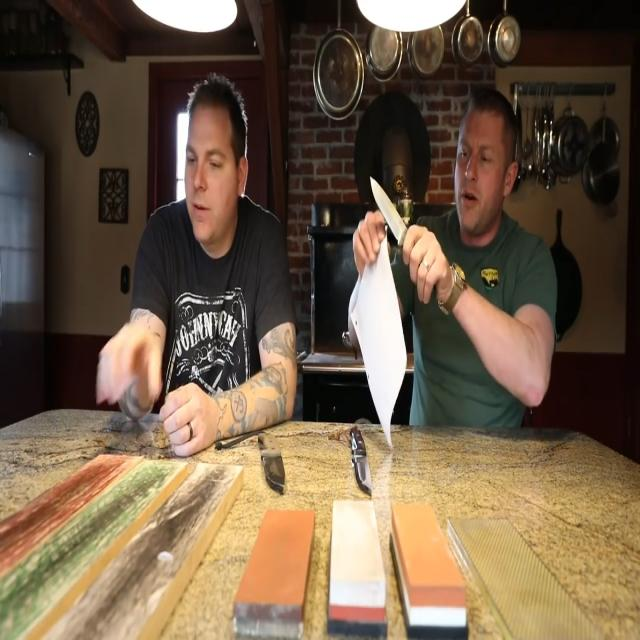knife: (369, 175, 407, 247), (258, 428, 290, 495), (348, 424, 376, 497)
